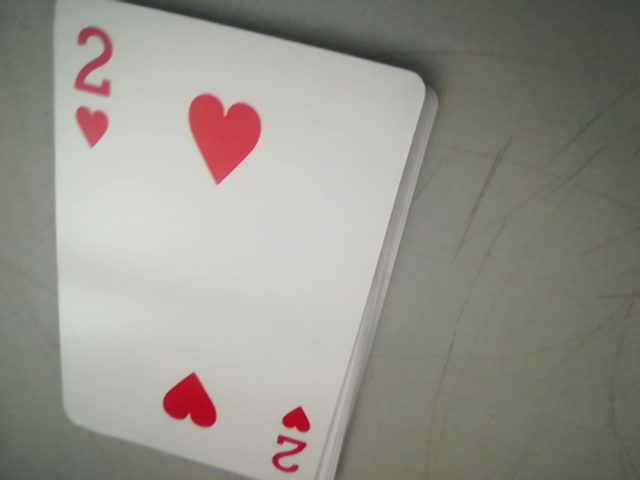hx 2: (52, 12, 119, 146), (264, 404, 320, 480)
